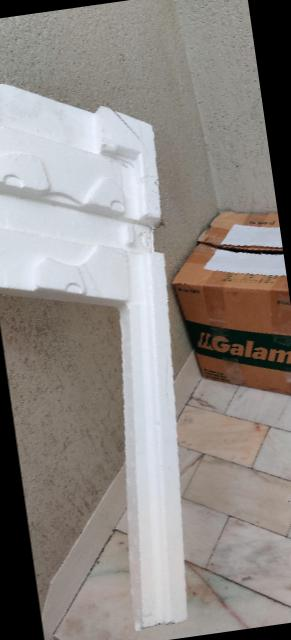cardboard paper: (172, 211, 291, 393)
